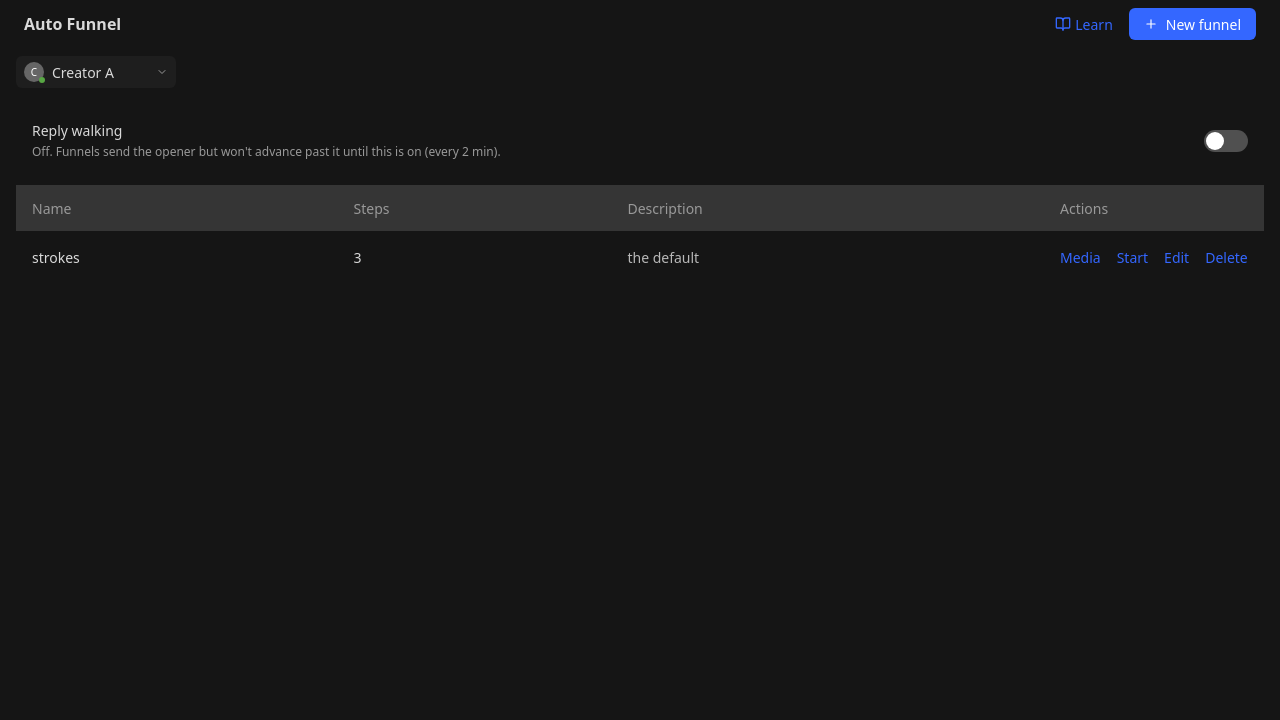
Scenario: Auto Funnel (MassFunnelsTab) › Delete asks in a dialog, not window.confirm
This screenshot has width=1280, height=720.
Step 1. Click the button "Delete" → (1226, 258), box x1=1205 y1=247 x2=1248 y2=268
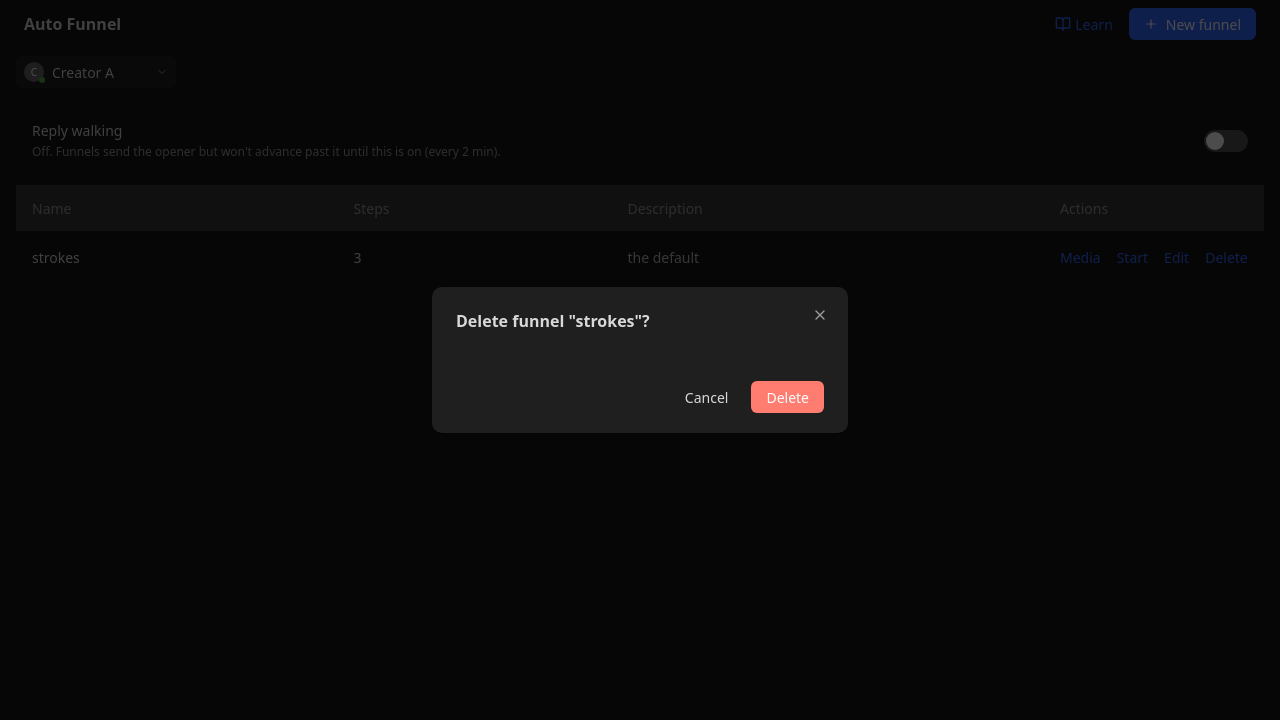
Step 2. Click the button "Delete" → (788, 397), box x1=751 y1=381 x2=824 y2=413
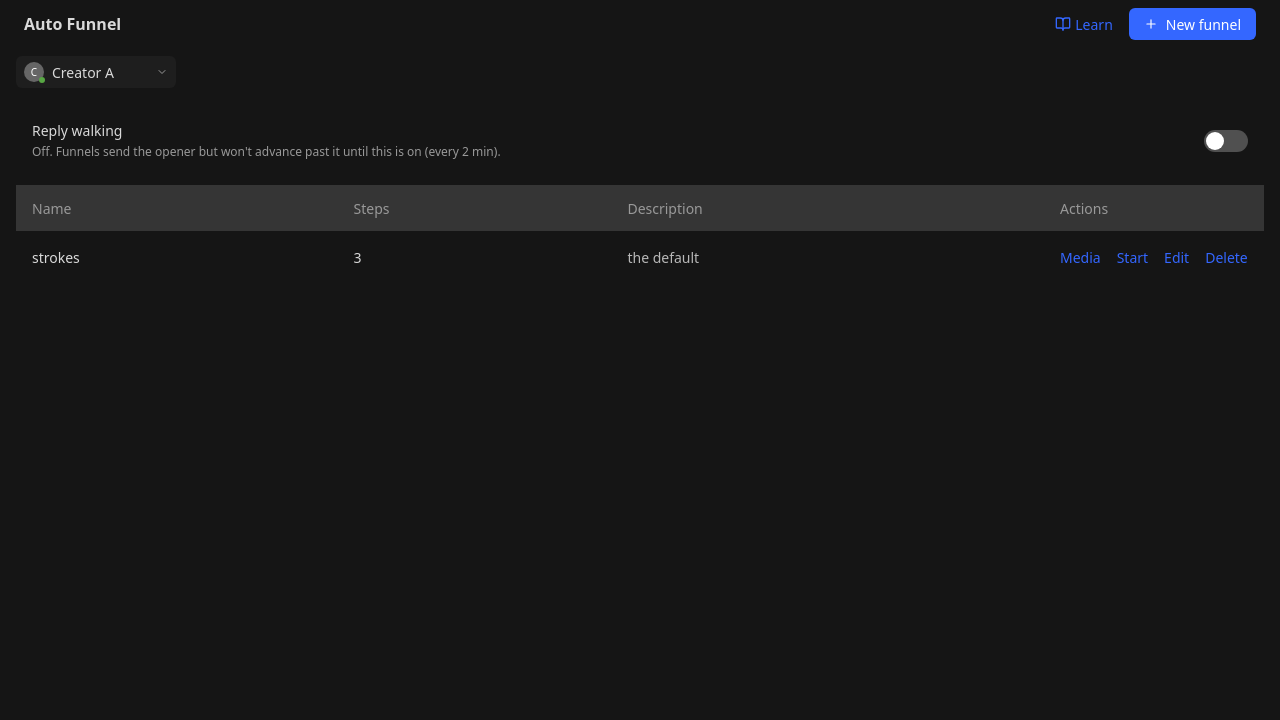
Result: the dialog is gone
